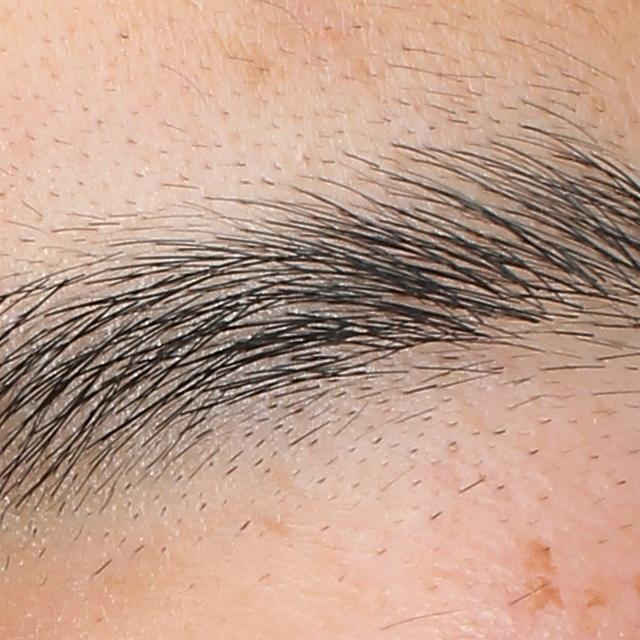melasma: (525, 540, 558, 573)
